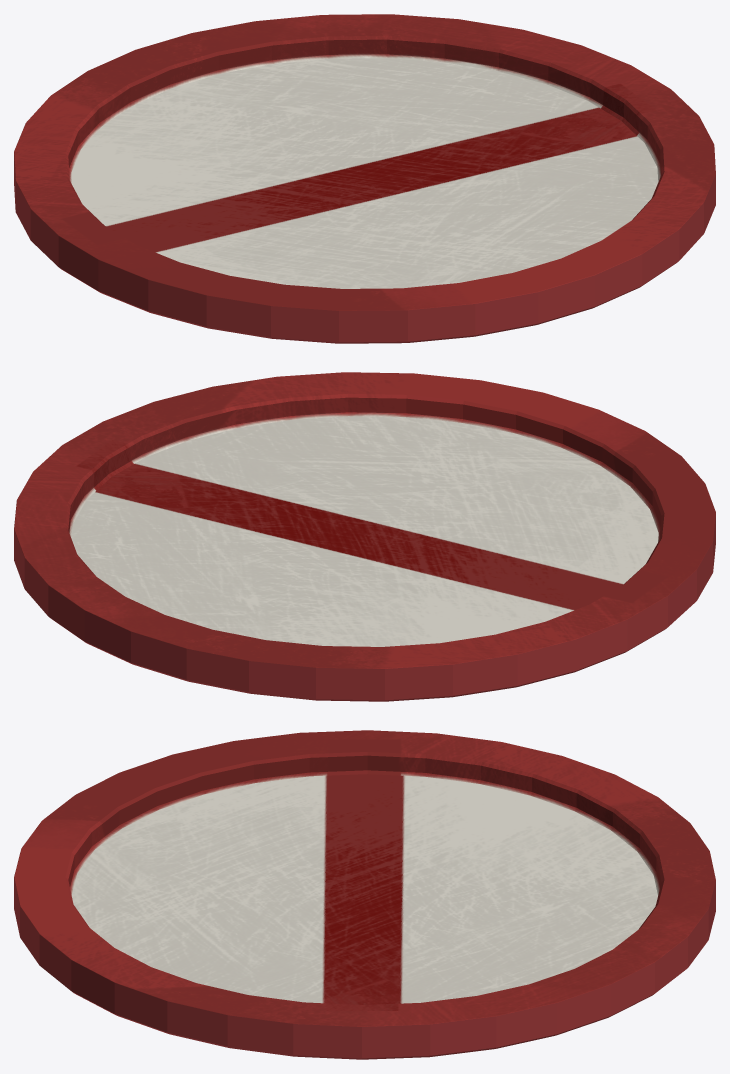
The picture shows the model from 3 angles, top to bottom: view 1: azimuth 30°, elevation 25°; view 2: azimuth 150°, elevation 25°; view 3: azimuth 270°, elevation 25°; orthographic projection.
Parts seen in each view (by area): view 1: Cylinder.011; view 2: Cylinder.011; view 3: Cylinder.011.
Part boxes in pixels (x1,y1,x2,y2): Cylinder.011: (14, 14, 715, 343); Cylinder.011: (14, 372, 715, 701); Cylinder.011: (14, 730, 715, 1059).
Bounding box in the file's own units: 200 × 10.74 × 200.
Materials: 3 (1 with a texture image).
